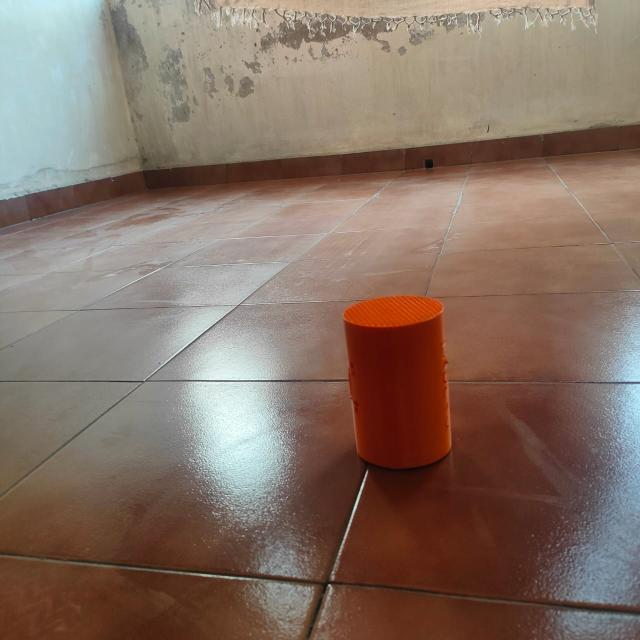Cylinder: (342, 294, 452, 470)
